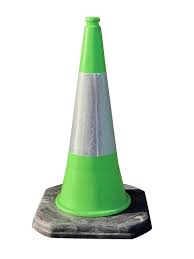cones: (29, 17, 154, 242)
